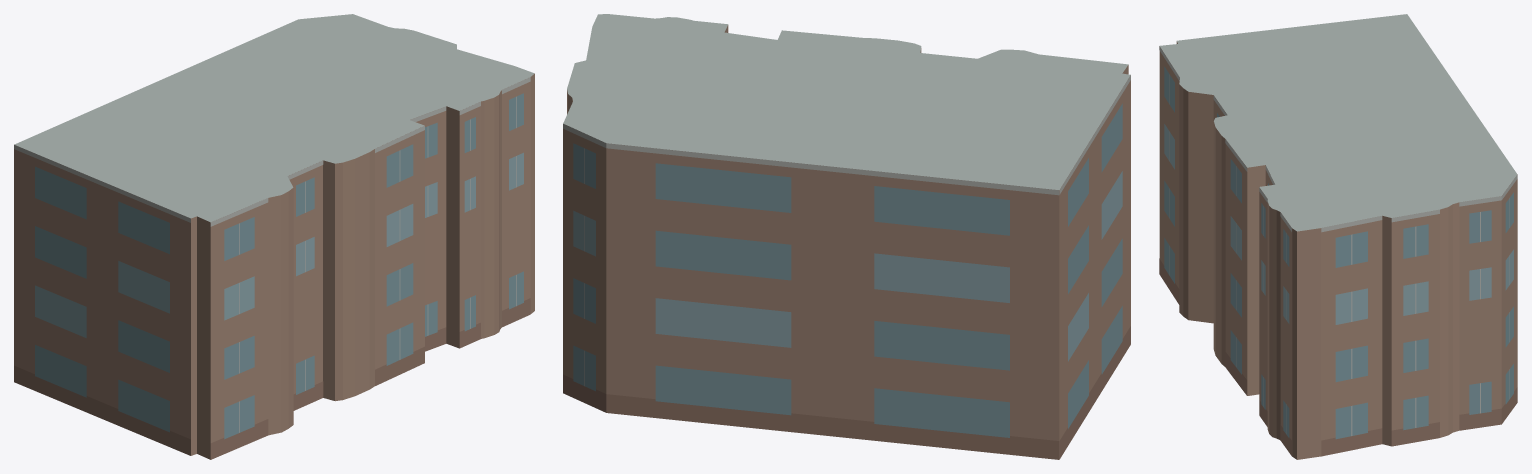
The model's file is survey-upis-32927294.glb.
3 views of the same model, side by side, from view 1: azimuth 30°, elevation 25°; view 2: azimuth 150°, elevation 25°; view 3: azimuth 270°, elevation 25° (orthographic). The views are drawn at different scales.
Visible parts, largest first — view 1: survey-upis-32927294.tmp; view 2: survey-upis-32927294.tmp; view 3: survey-upis-32927294.tmp.
Part boxes in pixels (left/top/right/bottom): survey-upis-32927294.tmp: left=14, top=14, right=534, bottom=459; survey-upis-32927294.tmp: left=563, top=14, right=1130, bottom=459; survey-upis-32927294.tmp: left=1159, top=14, right=1517, bottom=459.
Bounding box in the file's own units: 26.35 × 12.9 × 18.34.
